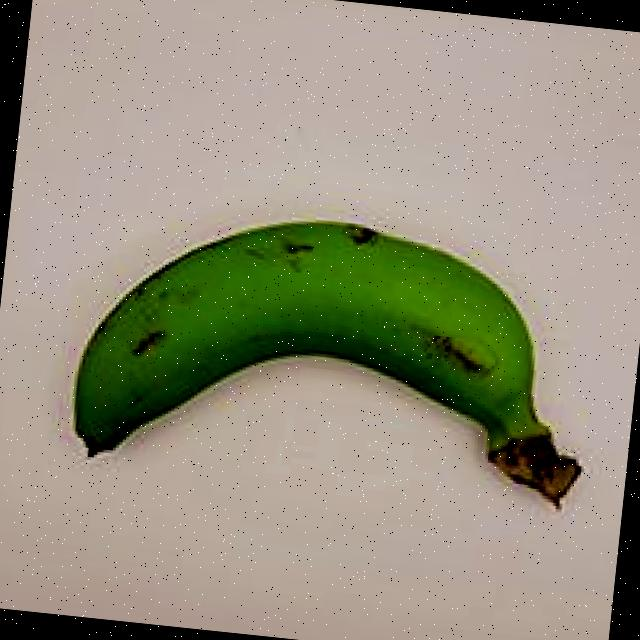Raw: (31, 174, 618, 559)
